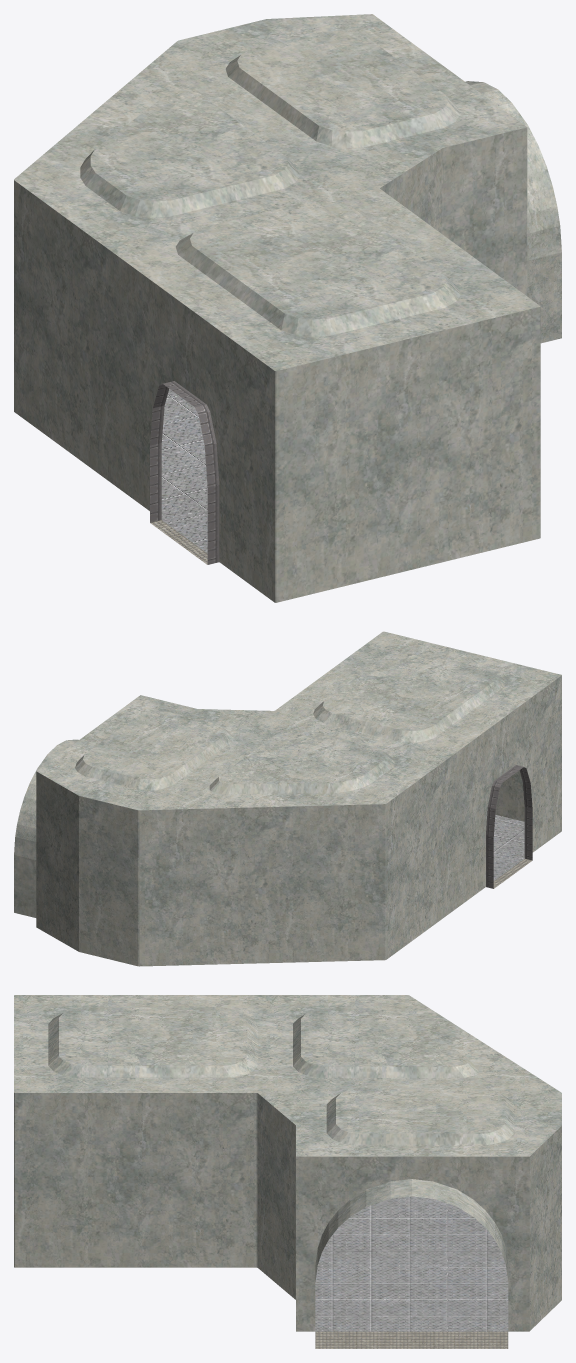
The model's file is thm_corl_cantina_r15_back_entrance_mesh_r15.fbx.
The picture shows the model from 3 angles, top to bottom: view 1: azimuth 30°, elevation 25°; view 2: azimuth 150°, elevation 25°; view 3: azimuth 270°, elevation 25°; orthographic projection. The views are drawn at different scales.
Visible parts, largest first — view 1: mesh_node; view 2: mesh_node; view 3: mesh_node.
Part boxes in pixels (x1,y1,x2,y2): mesh_node: [14, 14, 561, 602]; mesh_node: [14, 631, 561, 966]; mesh_node: [14, 995, 561, 1348].
Size of the model in its own units: 11.25 by 5.23 by 14.21.
